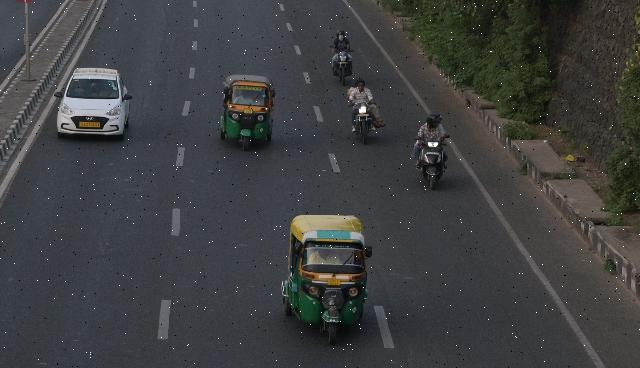With Helmet: (424, 112, 440, 128), (334, 30, 346, 40)
Without Helmet: (356, 81, 366, 91)
